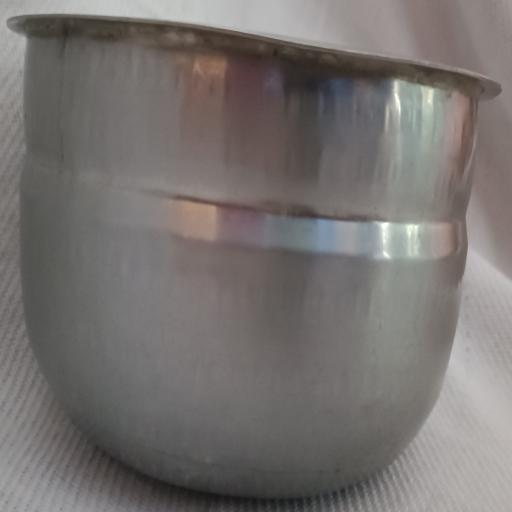vessel: (8, 16, 500, 497)
